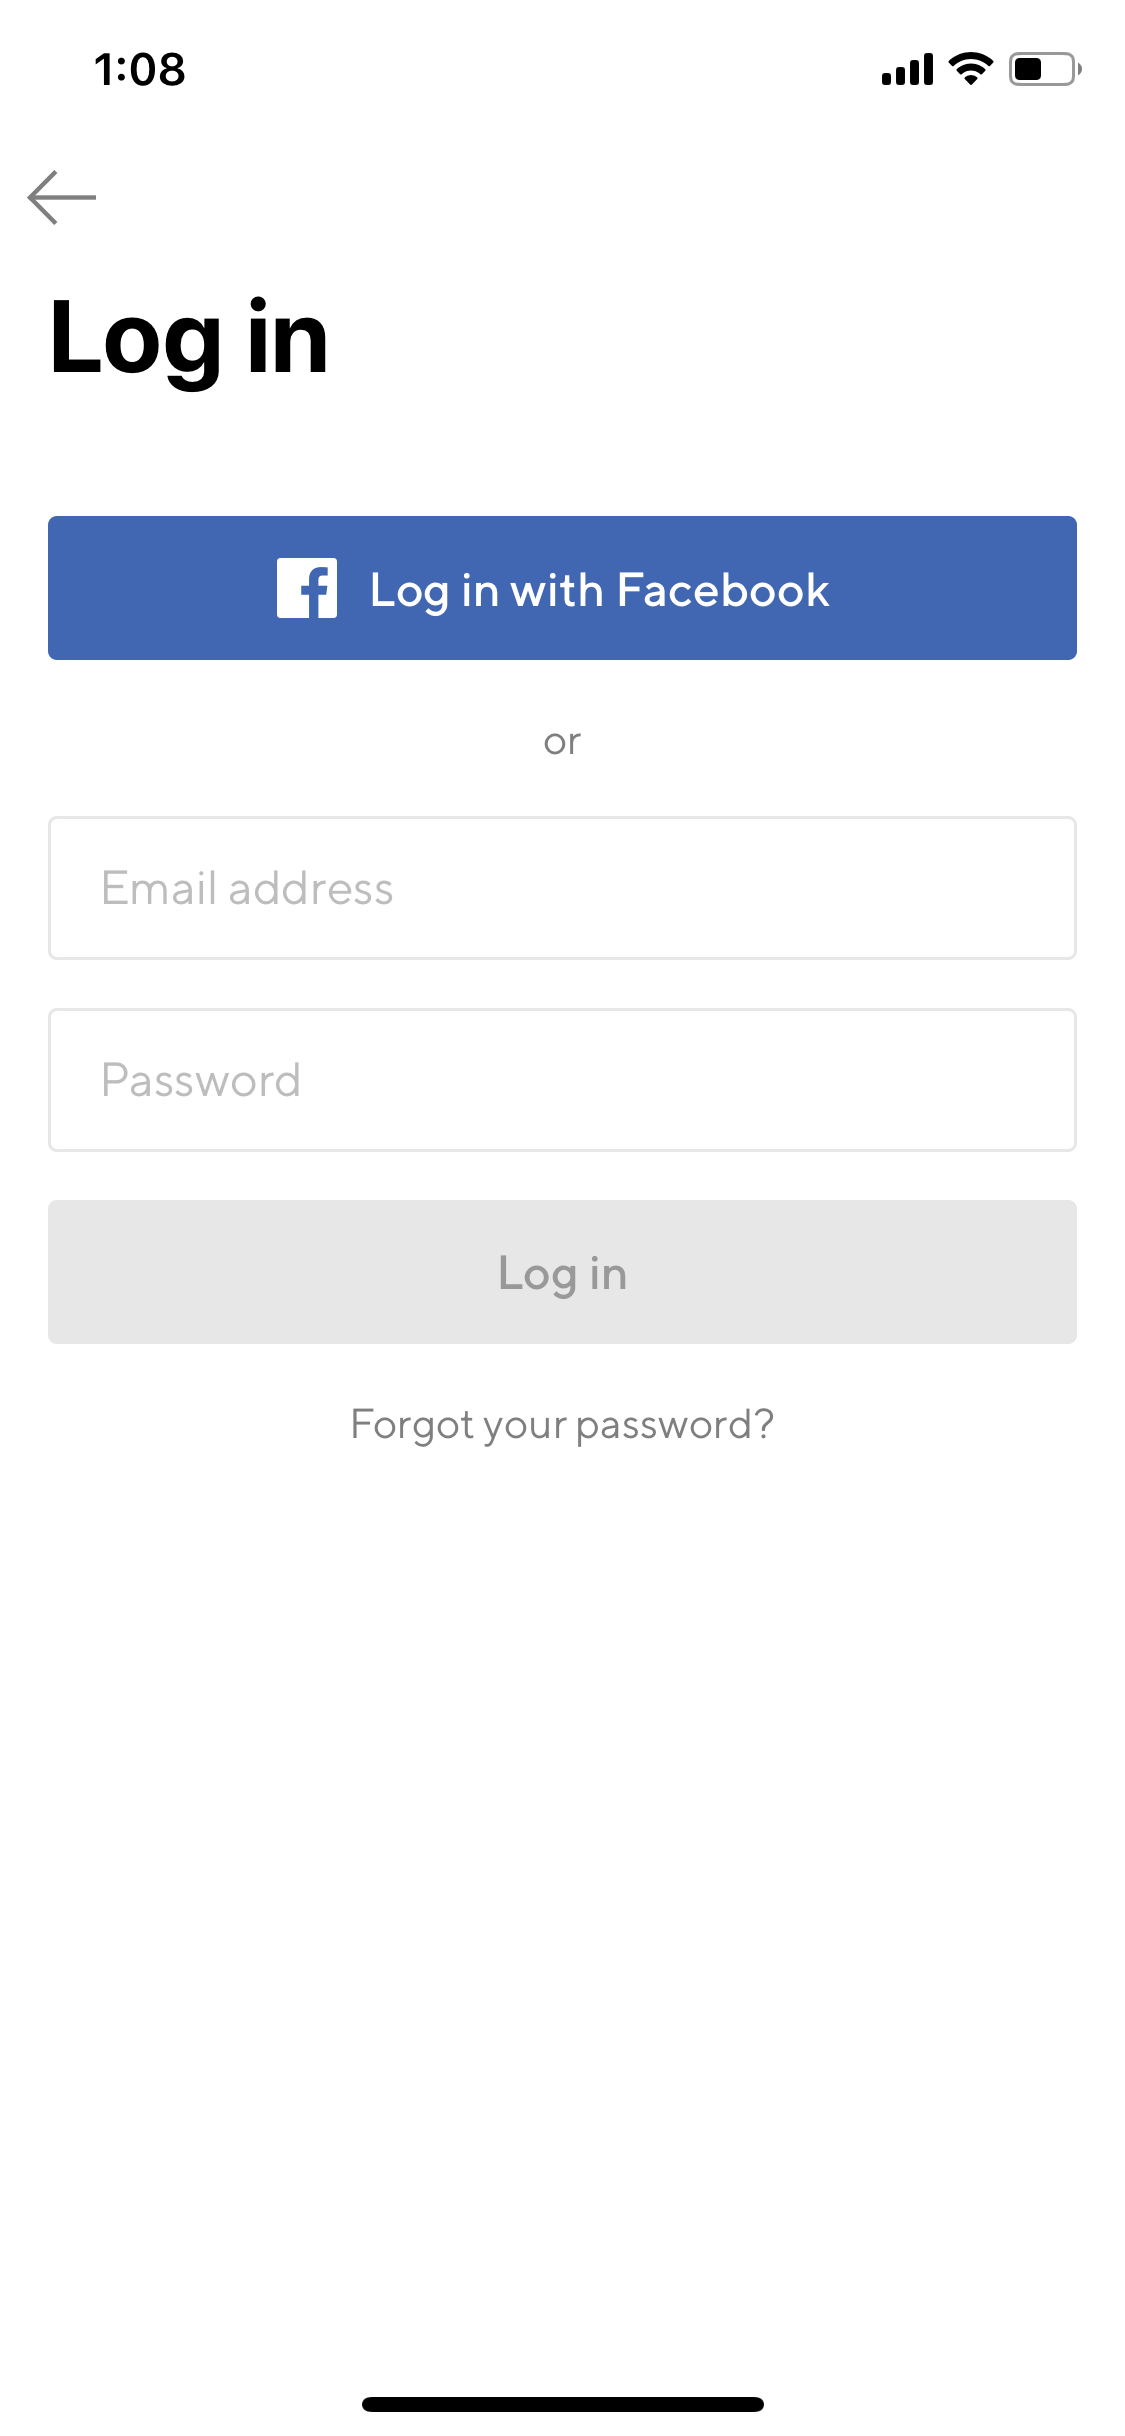Buttons: (33, 499, 1085, 677), (31, 1193, 1092, 1362), (326, 1366, 792, 1490), (2, 132, 138, 263)
Text Fields: (33, 803, 1092, 979), (34, 1000, 1088, 1176)
